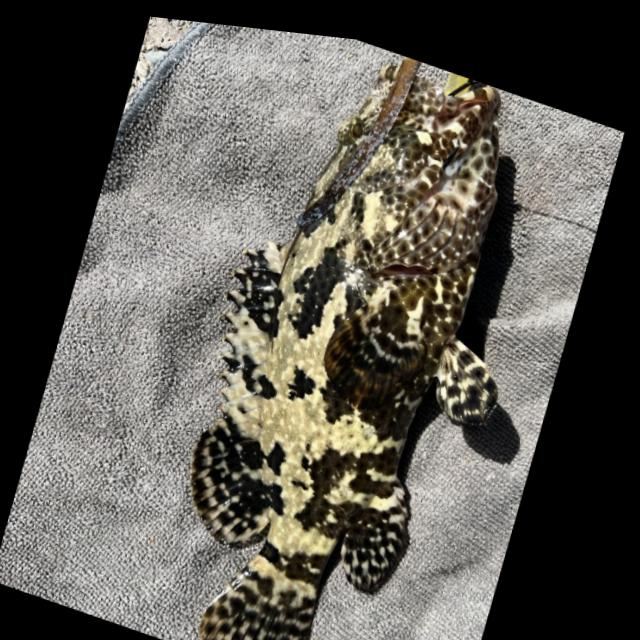Groupers: (127, 17, 578, 640)
